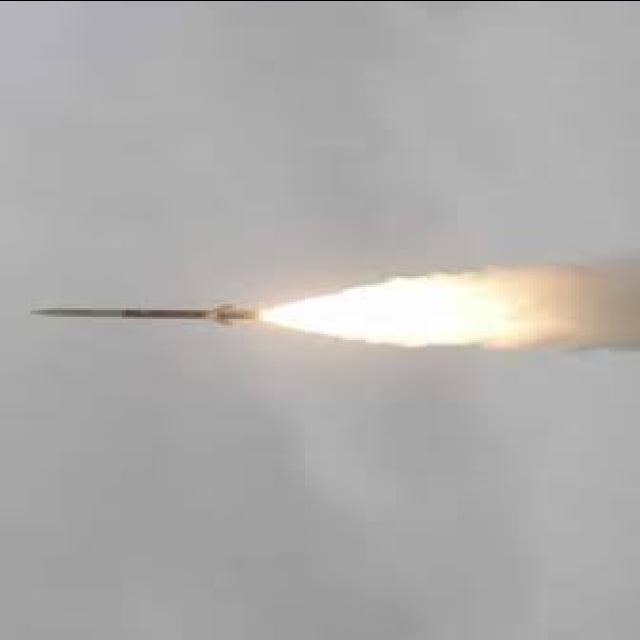missile: (28, 300, 272, 337)
